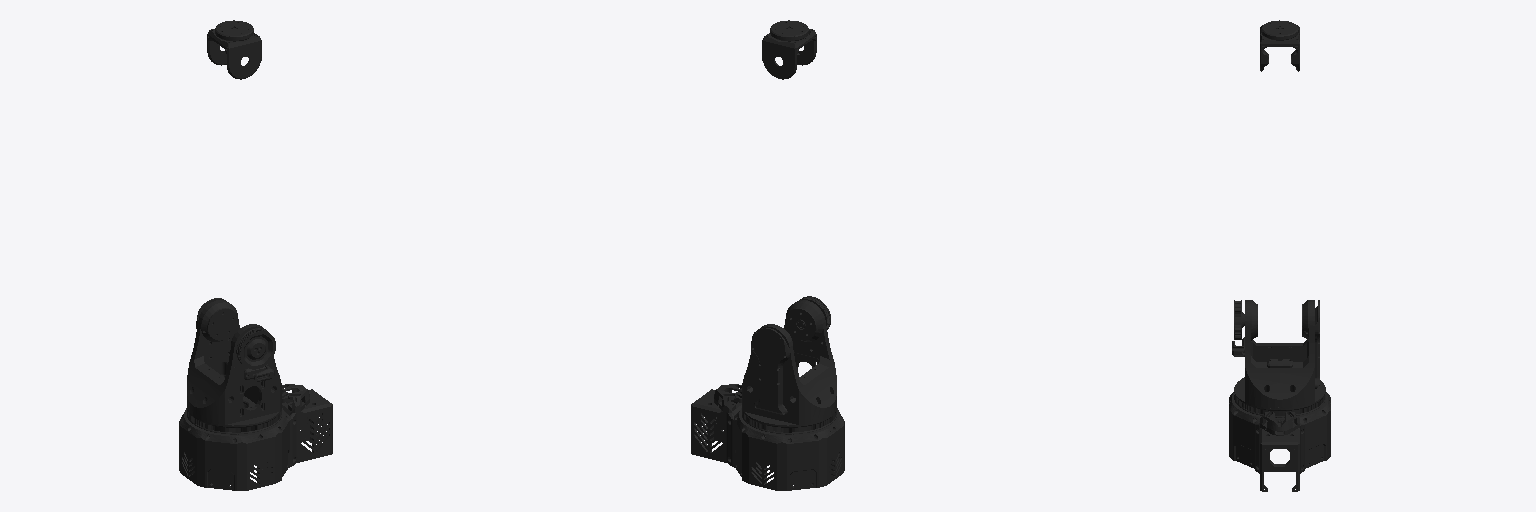
The robot description file, URDF, robot "Jonny":
<?xml version="1.0" encoding="utf-8"?>
<robot name="Jonny">
  <material name="default">
    <color rgba="0.2 0.2 0.2 1.0"/>
  </material>
  <link name="world"/>
  <joint name="base_joint" type="fixed">
    <parent link="world"/>
    <child link="link_0"/>
    <origin rpy="0 0 0" xyz="0 0 0"/>
    <axis xyz="0 1 0"/>
  </joint>
  <link
    name="link_0">
    <visual>
      <origin
        xyz="0 0 0"
        rpy="0 0 0" />
      <geometry>
        <mesh
          filename="package://jonny_robot_description/meshes/link_0.STL" />
      </geometry>
      <material name="default"/>
    </visual>
    <collision>
      <origin
        xyz="0 0 0"
        rpy="0 0 0" />
      <geometry>
        <mesh
          filename="package://jonny_robot_description/meshes/link_0.STL" />
      </geometry>
    </collision>
  </link>
  <link
    name="link_1">
    <visual>
      <origin
        xyz="0 0 0"
        rpy="0 0 0" />
      <geometry>
        <mesh
          filename="package://jonny_robot_description/meshes/link_1.STL" />
      </geometry>
      <material name="default"/>
    </visual>
    <collision>
      <origin
        xyz="0 0 0"
        rpy="0 0 0" />
      <geometry>
        <mesh
          filename="package://jonny_robot_description/meshes/link_1.STL" />
      </geometry>
    </collision>
  </link>
  <link
    name="link_2">
    <visual>
      <origin
        xyz="0 0 0"
        rpy="0 0 0" />
      <geometry>
        <mesh
          filename="package://jonny_robot_description/meshes/link_2.STL" />
      </geometry>
      <material name="default"/>
    </visual>
    <collision>
      <origin
        xyz="0 0 0"
        rpy="0 0 0" />
      <geometry>
        <mesh
          filename="package://jonny_robot_description/meshes/link_2.STL" />
      </geometry>
    </collision>
  </link>
  <link
    name="link_3">
    <visual>
      <origin
        xyz="0 0 0"
        rpy="0 0 0" />
      <geometry>
        <mesh
          filename="package://jonny_robot_description/meshes/link_3.STL" />
      </geometry>
      <material name="default"/>
    </visual>
    <collision>
      <origin
        xyz="0 0 0"
        rpy="0 0 0" />
      <geometry>
        <mesh
          filename="package://jonny_robot_description/meshes/link_3.STL" />
      </geometry>
    </collision>
  </link>
  <link
    name="link_4">
    <visual>
      <origin
        xyz="0 0 0"
        rpy="0 0 0" />
      <geometry>
        <mesh
          filename="package://jonny_robot_description/meshes/link_4.STL" />
      </geometry>
      <material name="default"/>
    </visual>
    <collision>
      <origin
        xyz="0 0 0"
        rpy="0 0 0" />
      <geometry>
        <mesh
          filename="package://jonny_robot_description/meshes/link_4.STL" />
      </geometry>
    </collision>
  </link>
  <link
    name="link_5">
    <visual>
      <origin
        xyz="0 0 0"
        rpy="0 0 0" />
      <geometry>
        <mesh
          filename="package://jonny_robot_description/meshes/link_5.STL" />
      </geometry>
      <material name="default"/>
    </visual>
    <collision>
      <origin
        xyz="0 0 0"
        rpy="0 0 0" />
      <geometry>
        <mesh
          filename="package://jonny_robot_description/meshes/link_5.STL" />
      </geometry>
    </collision>
  </link>
  <link
    name="link_6">
    <visual>
      <origin
        xyz="0 0 0"
        rpy="0 0 0" />
      <geometry>
        <mesh
          filename="package://jonny_robot_description/meshes/link_6.STL" />
      </geometry>
      <material name="default"/>
    </visual>
    <collision>
      <origin
        xyz="0 0 0"
        rpy="0 0 0" />
      <geometry>
        <mesh
          filename="package://jonny_robot_description/meshes/link_6.STL" />
      </geometry>
    </collision>
  </link>
  <joint
    name="joint_1"
    type="revolute">
    <origin
      xyz="0 0 0.13"
      rpy="0 0 0" />
    <parent
      link="link_0" />
    <child
      link="link_1" />
    <axis
      xyz="0 0 1" />
    <limit
      lower="-3.14"
      upper="3.14"
      effort="0"
      velocity="0" />
  </joint>
  <joint
    name="joint_2"
    type="revolute">
    <origin
      xyz="0 0 0.15"
      rpy="0 0 0" />
    <parent
      link="link_1" />
    <child
      link="link_2" />
    <axis
      xyz="0 -1 0" />
    <limit
      lower="-1.57"
      upper="1.57"
      effort="0"
      velocity="0" />
  </joint>
  <joint
    name="joint_3"
    type="revolute">
    <origin
      xyz="0 0 0.26"
      rpy="0 0 0" />
    <parent
      link="link_2" />
    <child
      link="link_3" />
    <axis
      xyz="0 1 0" />
    <limit
      lower="-2.1"
      upper="2.1"
      effort="0"
      velocity="0" />
  </joint>
  <joint
    name="joint_4"
    type="revolute">
    <origin
      xyz="0 0 0.159"
      rpy="0 0 0" />
    <parent
      link="link_3" />
    <child
      link="link_4" />
    <axis
      xyz="0 0 -1" />
    <limit
      lower="-1.57"
      upper="1.57"
      effort="0"
      velocity="0" />
  </joint>
  <joint
    name="joint_5"
    type="revolute">
    <origin
      xyz="0 0 0.16"
      rpy="0 0 0" />
    <parent
      link="link_4" />
    <child
      link="link_5" />
    <axis
      xyz="0 1 0" />
    <limit
      lower="-1.57"
      upper="1.57"
      effort="0"
      velocity="0" />
  </joint>
  <joint
    name="joint_6"
    type="revolute">
    <origin
      xyz="0 0 0.041"
      rpy="0 0 0" />
    <parent
      link="link_5" />
    <child
      link="link_6" />
    <axis
      xyz="0 0 -1" />
    <limit
      lower="-3.14"
      upper="3.14"
      effort="0"
      velocity="0" />
  </joint>
</robot>

--- Render facts (derived) ---
Views: 3 orthographic renders of the robot side by side, from view 1: azimuth 30°, elevation 25°; view 2: azimuth 150°, elevation 25°; view 3: azimuth 270°, elevation 25°.
Robot: Jonny — 8 links, 7 joints (6 revolute, 1 fixed); root link world; default pose: all joints at 0.
Links seen in each view (by area): view 1: link_1, link_0, link_5, link_6; view 2: link_1, link_0, link_5, link_6; view 3: link_1, link_0, link_5, link_6.
Boxes of the visible links, x1=… form: link_1: x1=187, y1=298, x2=281, y2=433; link_0: x1=179, y1=384, x2=332, y2=490; link_5: x1=207, y1=29, x2=261, y2=79; link_6: x1=215, y1=20, x2=253, y2=41; link_1: x1=742, y1=296, x2=836, y2=433; link_0: x1=691, y1=384, x2=844, y2=490; link_5: x1=762, y1=29, x2=816, y2=79; link_6: x1=770, y1=20, x2=808, y2=41; link_1: x1=1232, y1=300, x2=1325, y2=416; link_0: x1=1229, y1=392, x2=1330, y2=491; link_5: x1=1260, y1=25, x2=1299, y2=71; link_6: x1=1261, y1=20, x2=1298, y2=40.
Bounding box of the posed robot: 0.294 × 0.2 × 0.912 m (x, y, z).
Meshes: 7 distinct files referenced, 4 mesh visuals loaded (4 binary STL); not drawn: 3 (reference not matched to a file when rendering).
